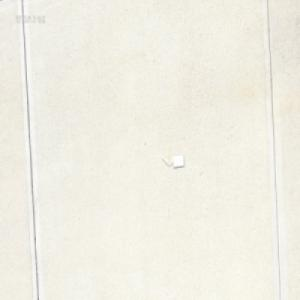LuggageTag: (159, 152, 184, 169)
